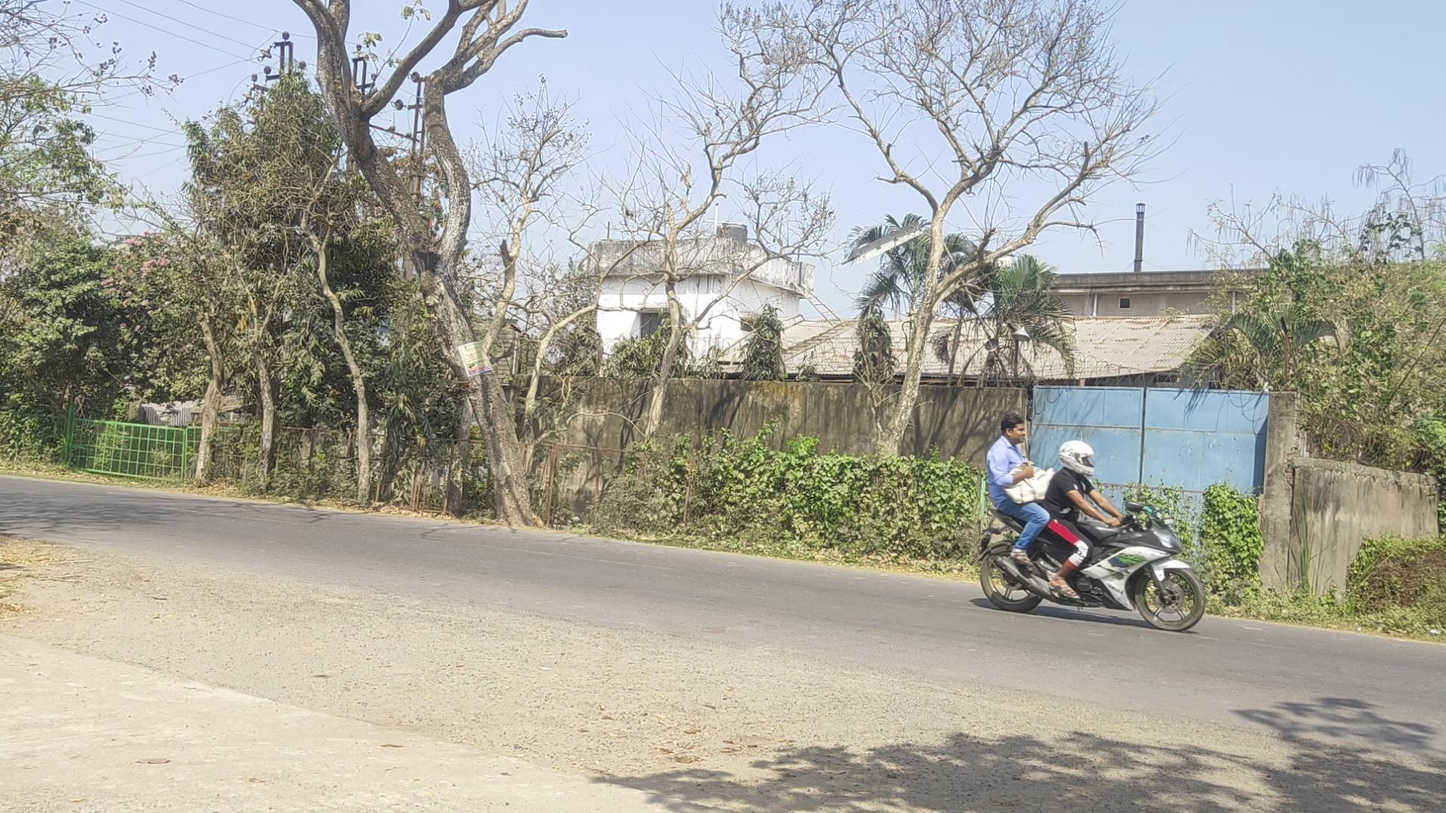bike: (978, 413, 1207, 632)
